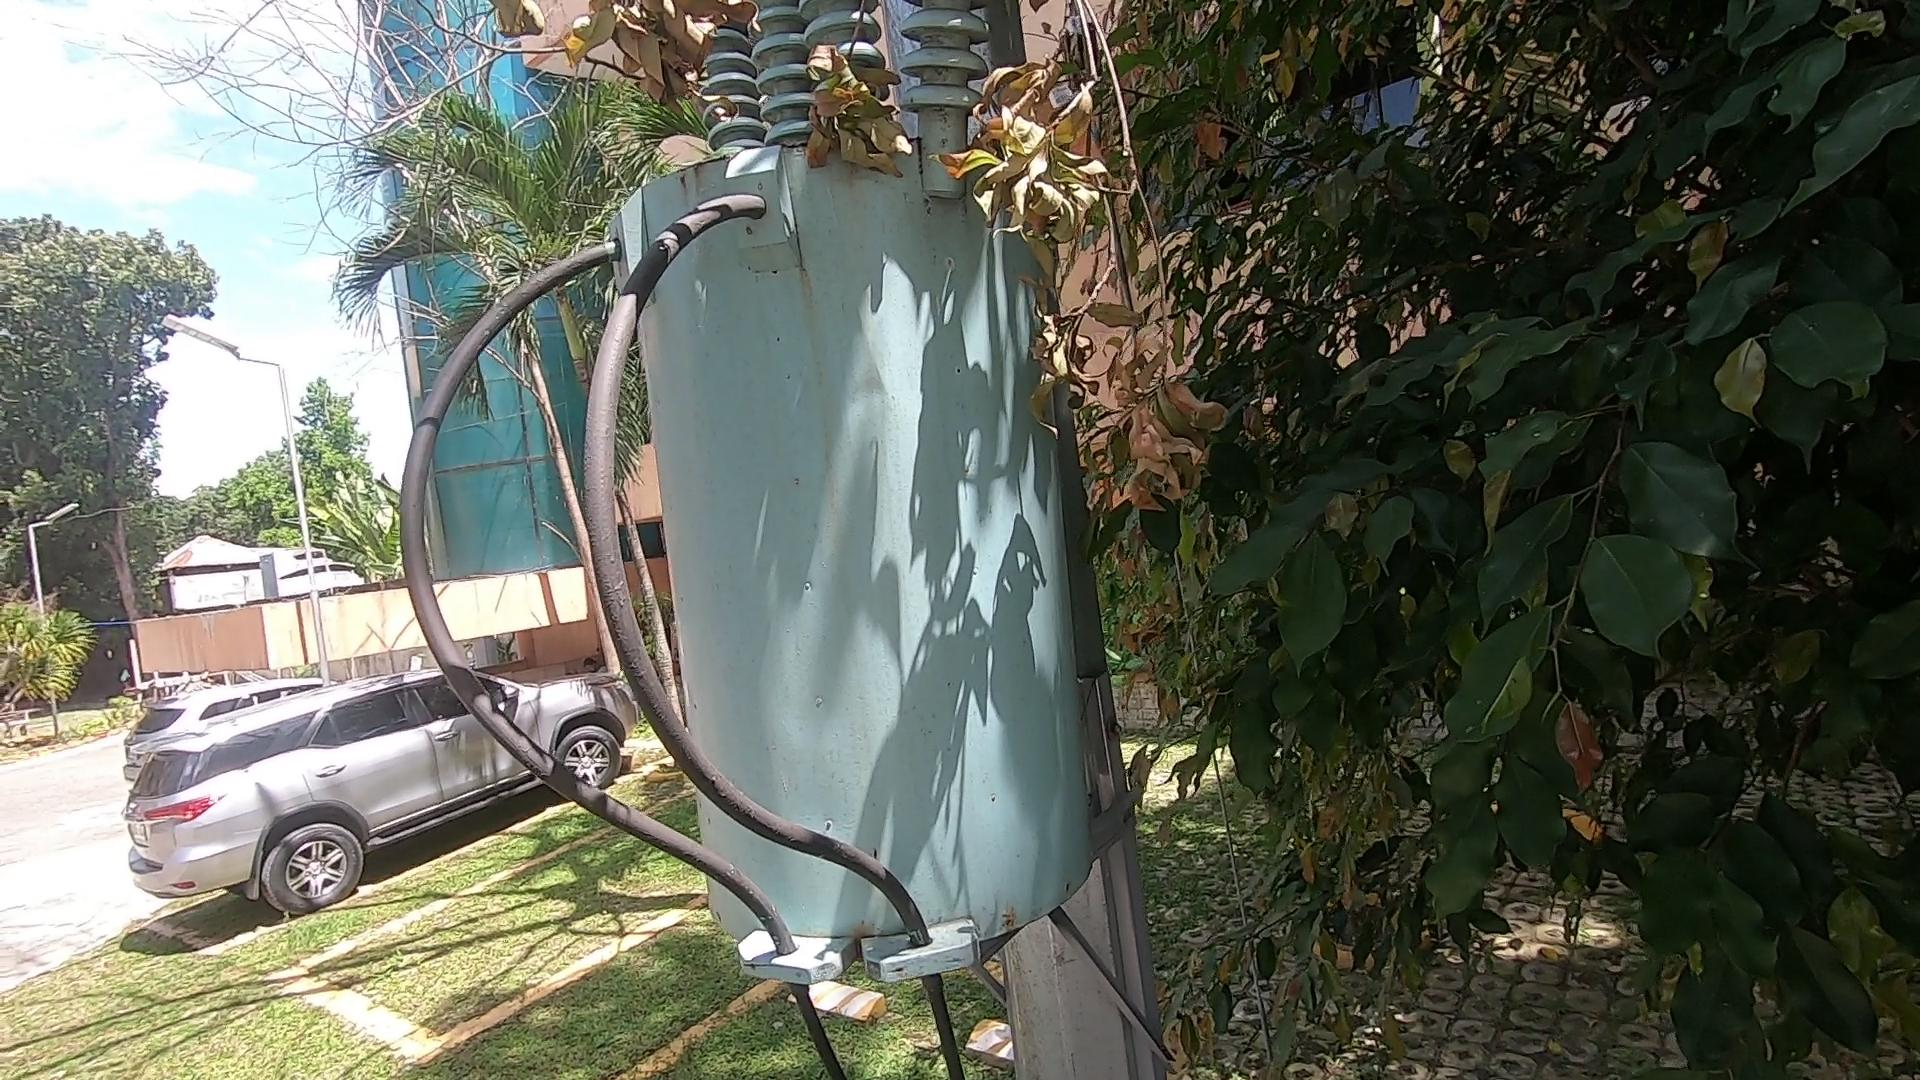branch with leaves: (963, 1, 1262, 564), (796, 1, 923, 196), (485, 1, 746, 78)
leaf: (665, 136, 748, 170)
